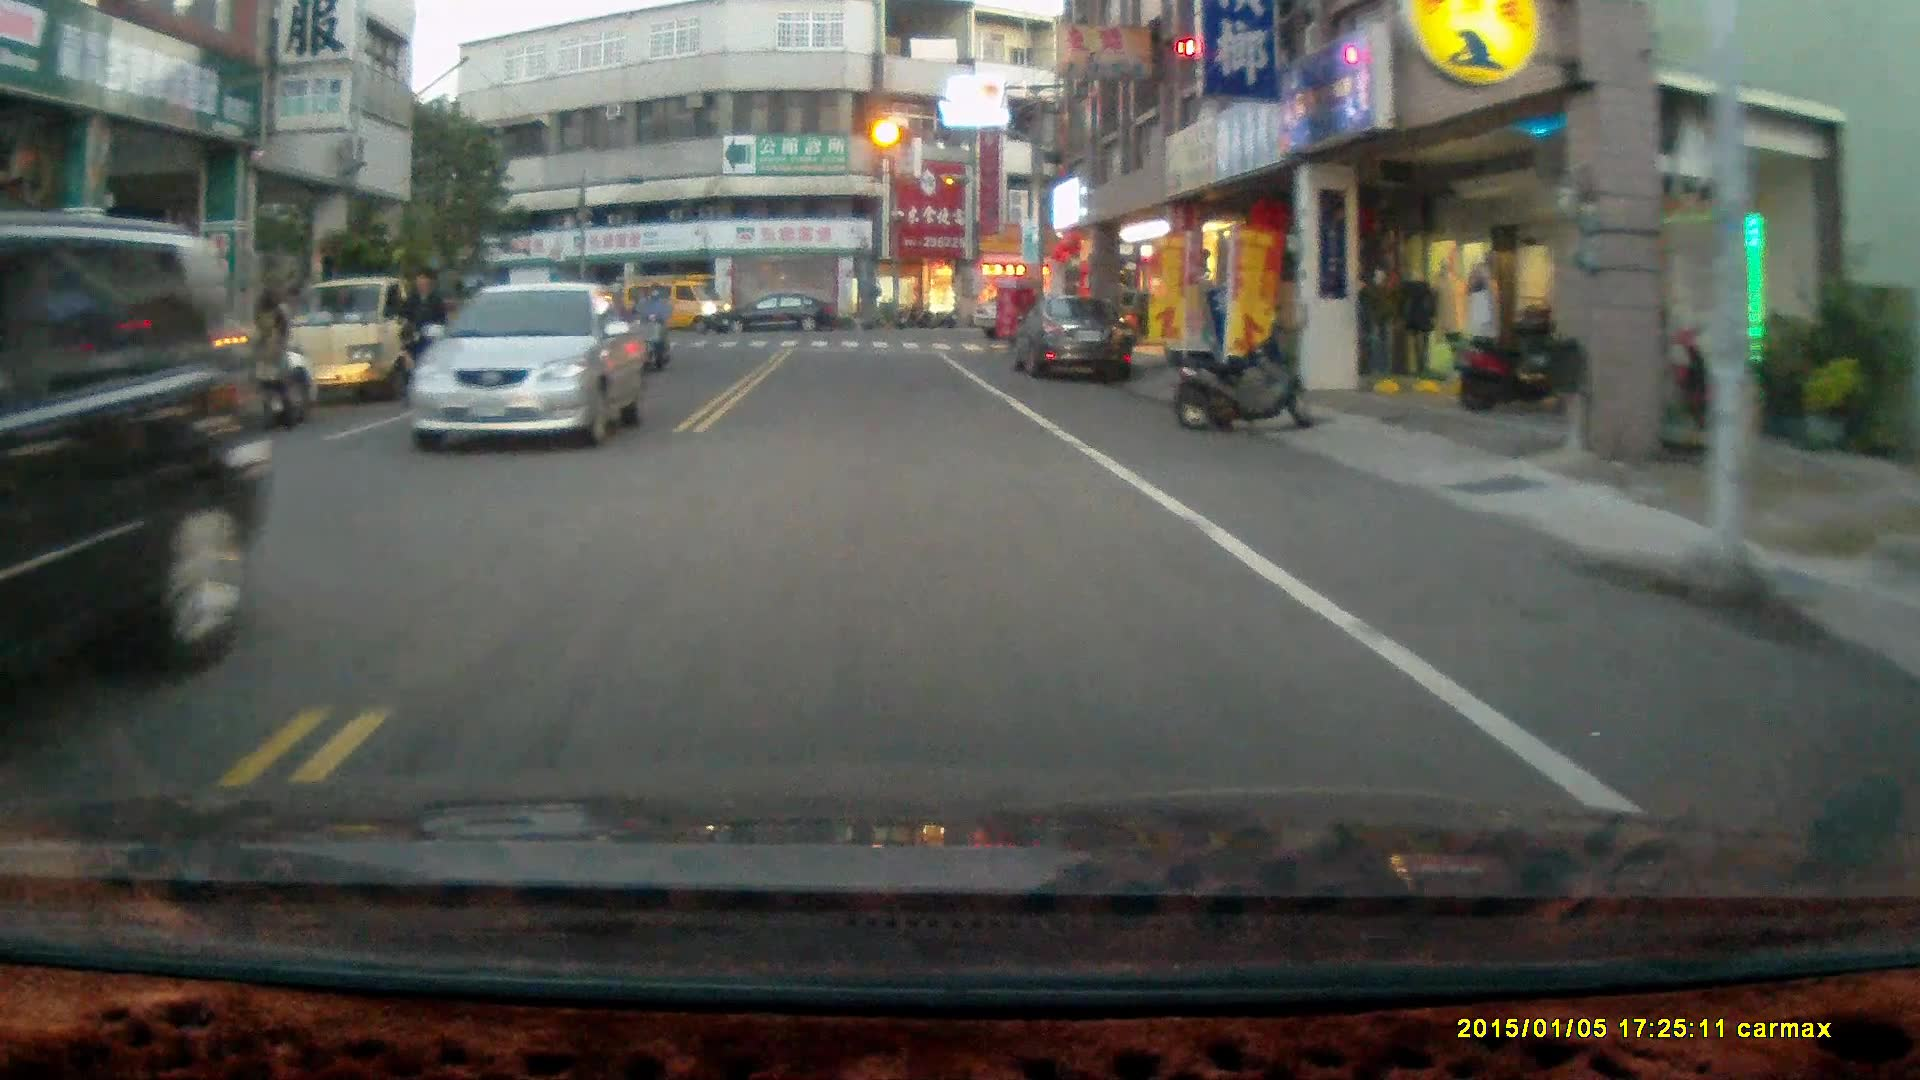pedestrian: (393, 263, 451, 410), (243, 289, 297, 435)
rider: (636, 280, 674, 375)
vehicle: (1, 236, 257, 716), (14, 302, 295, 459), (405, 280, 654, 452), (271, 278, 466, 410), (1007, 289, 1143, 388), (612, 275, 728, 336), (721, 292, 839, 337)
